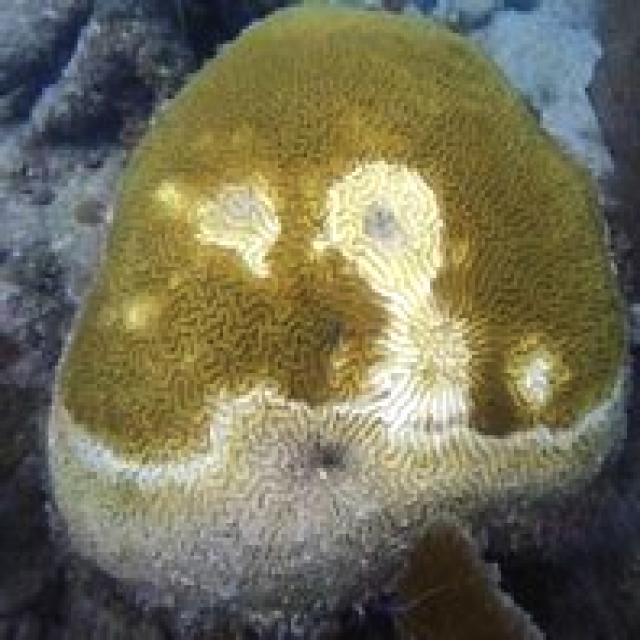Coral: (45, 0, 632, 640), (372, 511, 547, 640)
